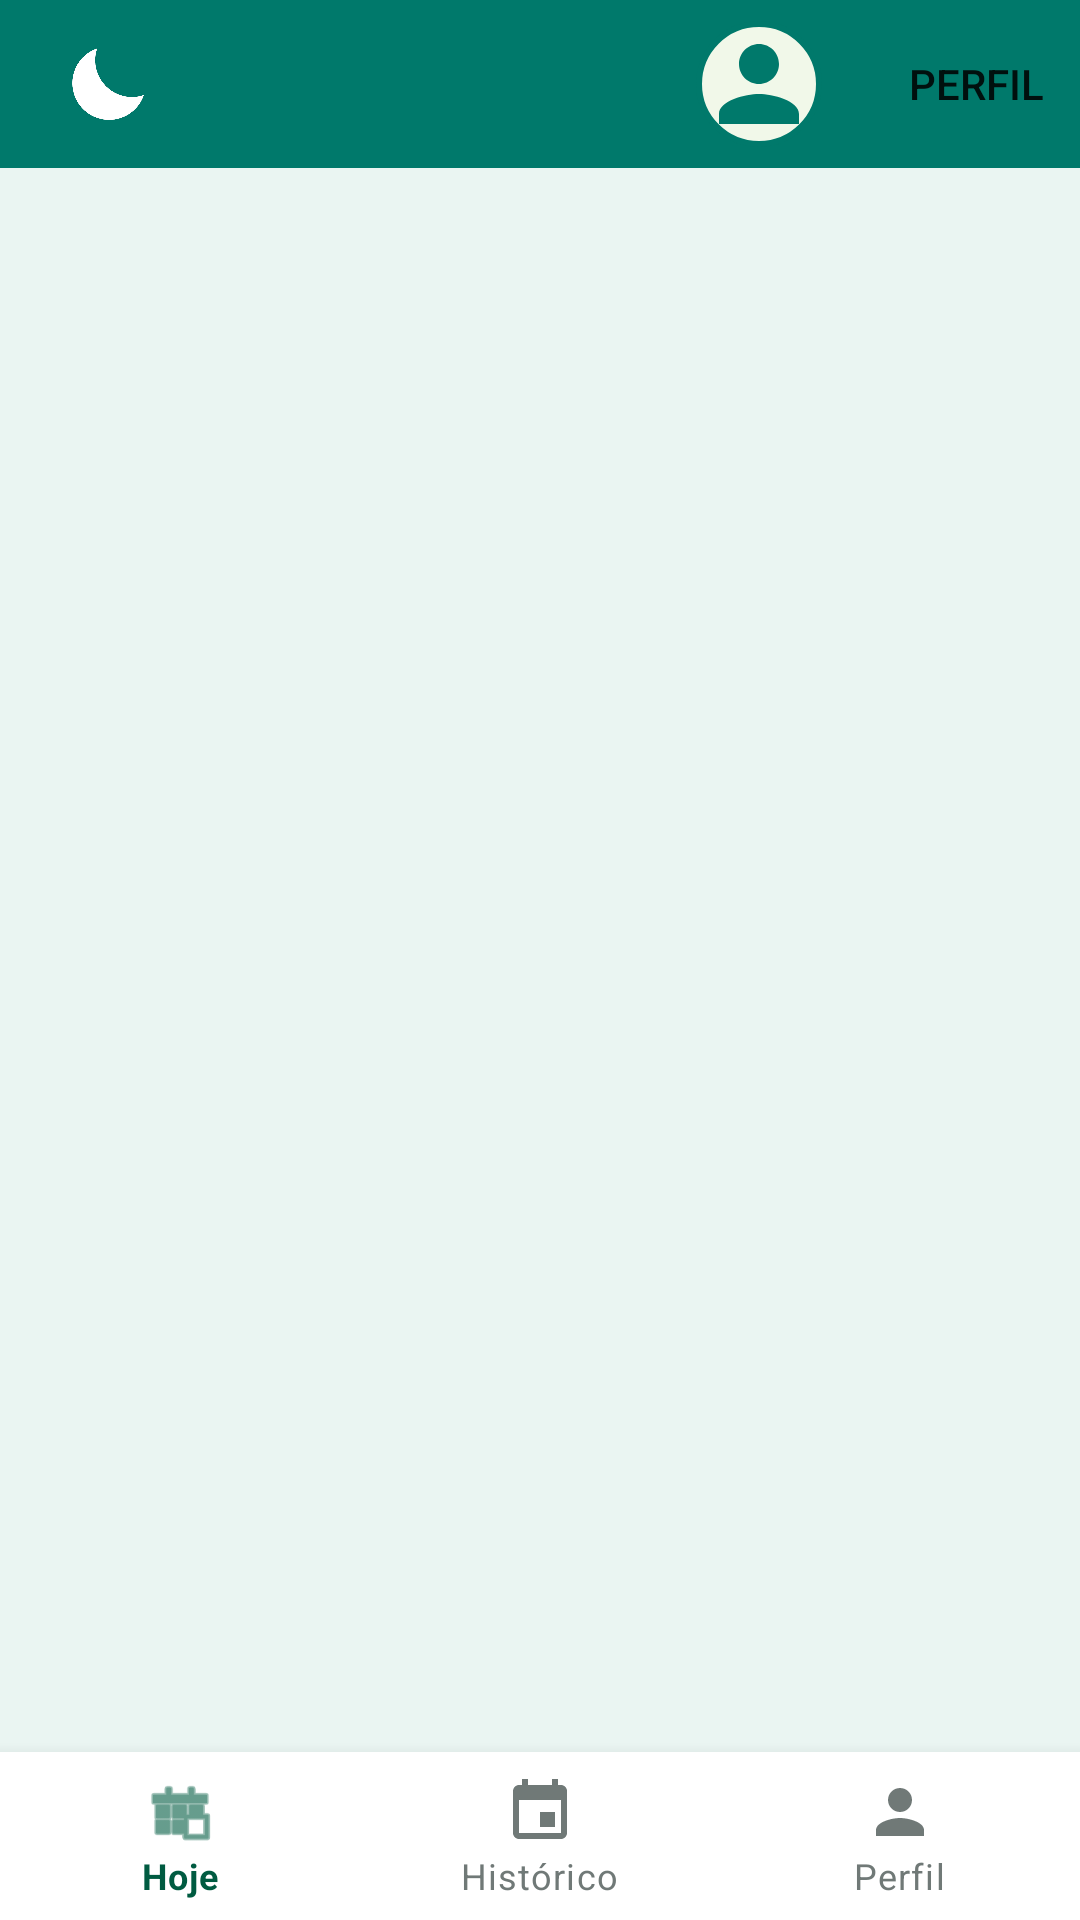

Where to tap for icons on this 1080x1920 app screen, as point (x, y):
moon: point (108, 84)
